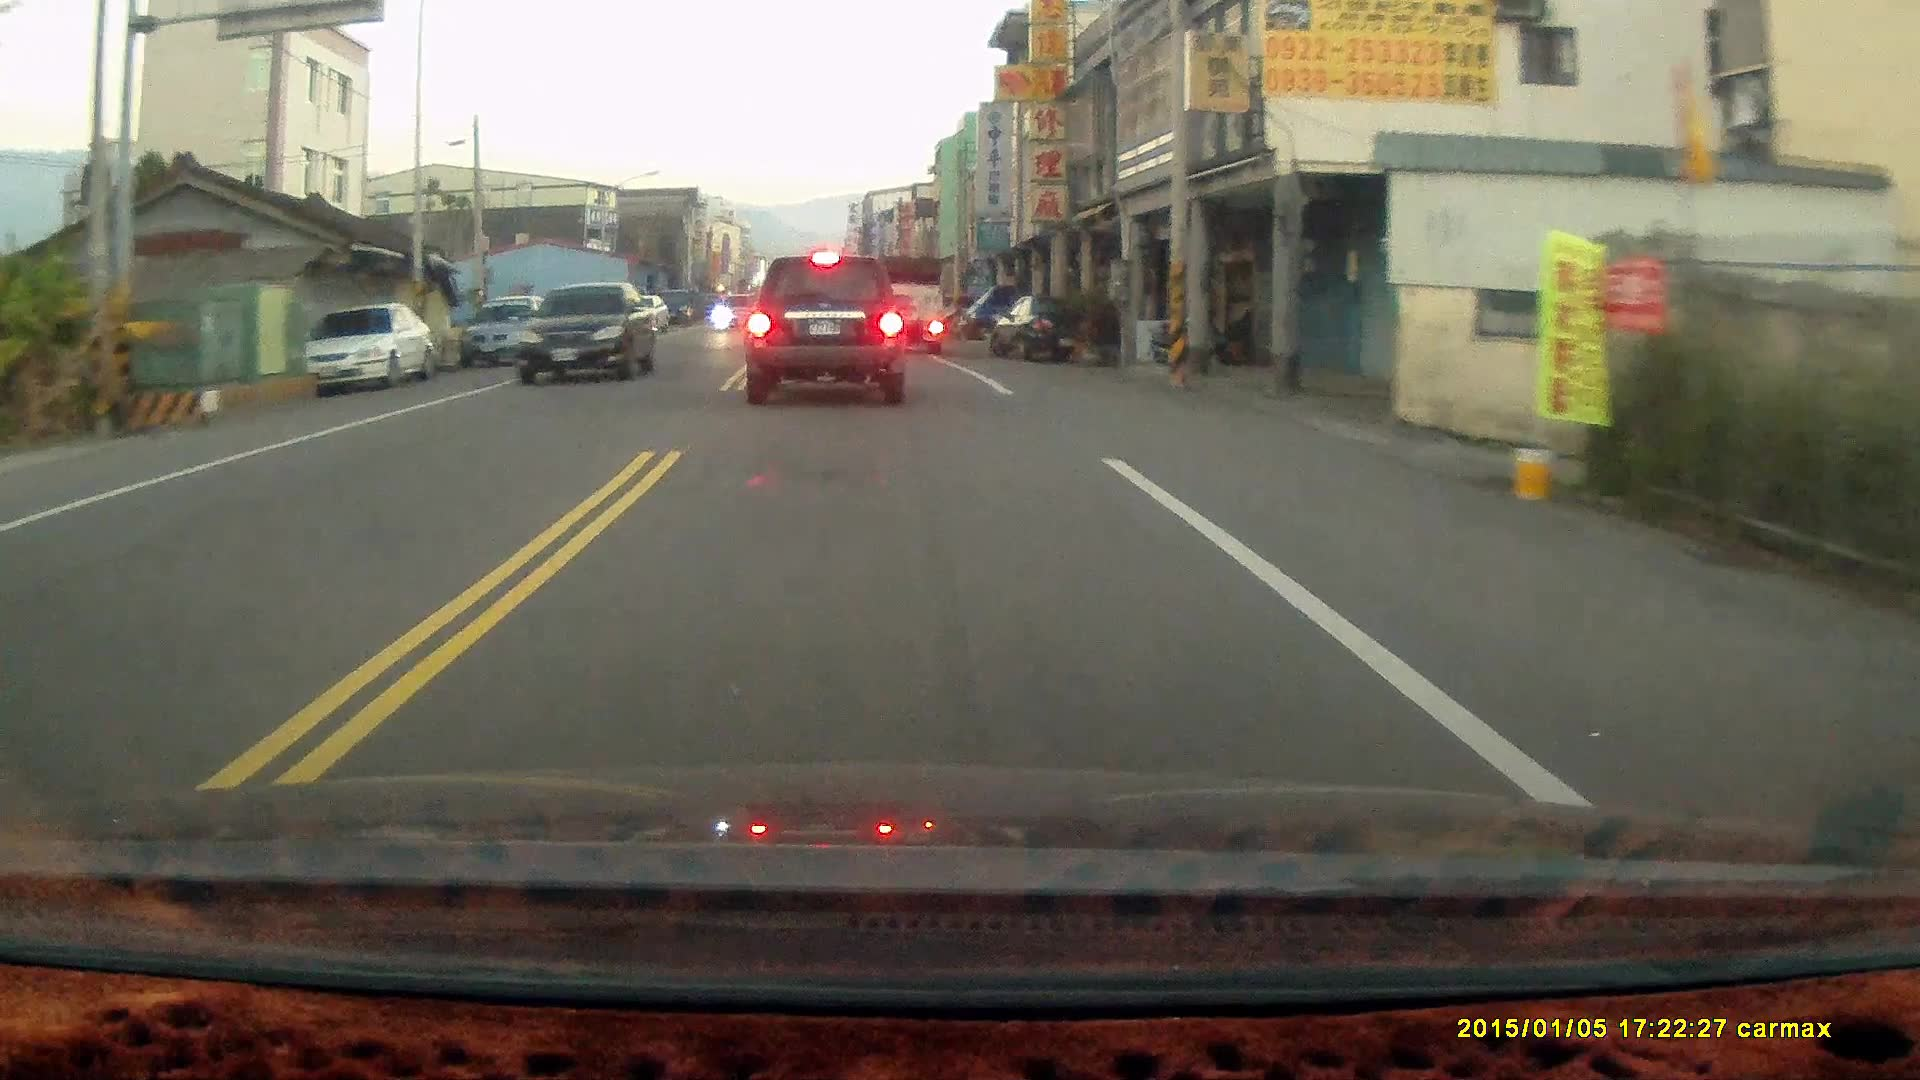vehicle: (748, 251, 913, 405), (520, 284, 659, 382), (305, 299, 438, 386), (996, 291, 1106, 363), (872, 255, 948, 355), (467, 291, 564, 367), (615, 295, 671, 332)
